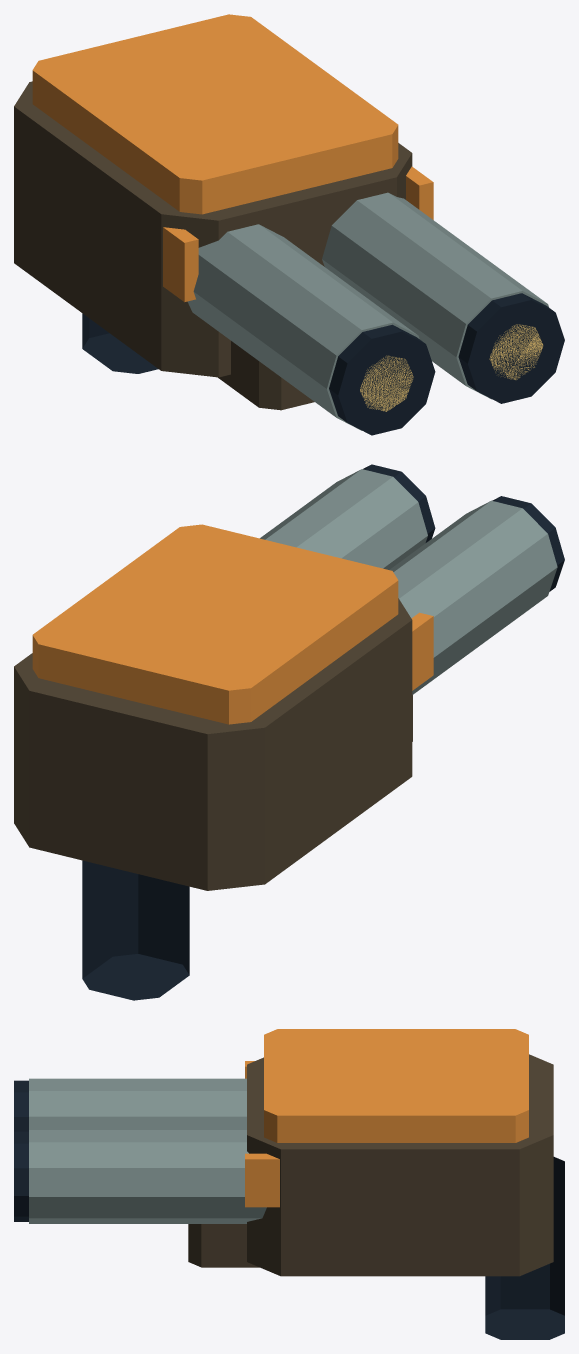
Rendered from gun_shotgun.obj.
3 renders of one model, top to bottom at view 1: azimuth 30°, elevation 25°; view 2: azimuth 150°, elevation 25°; view 3: azimuth 270°, elevation 25°, orthographic. The views are drawn at different scales.
Size of the model in its own units: 0.62 by 0.735 by 1.45.
